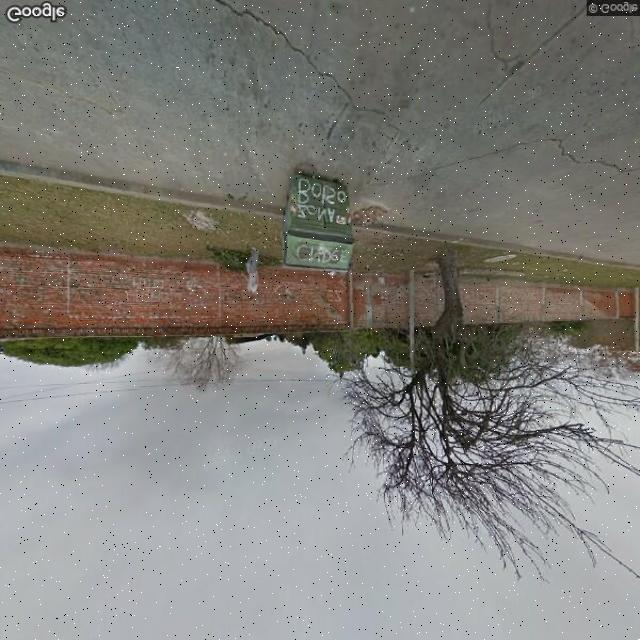garbage container: (277, 153, 366, 279)
